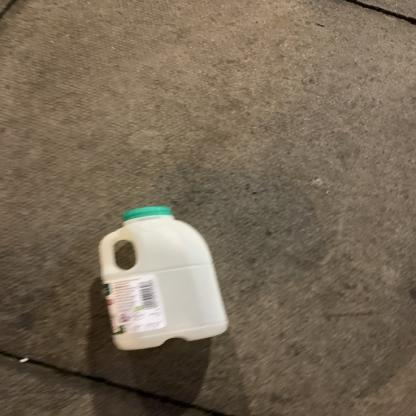trash: (95, 206, 232, 352)
